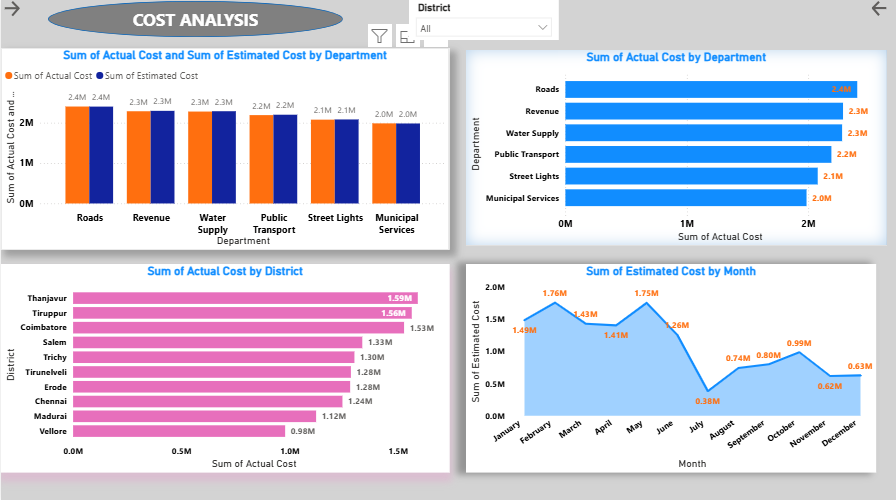

This screenshot's page, from the dashboard's own definition file:
{"tool":"powerbi","page":{"name":"Cost Analysis","canvas":[1280,720],"ordinal":4},"visuals":[{"type":"clusteredColumnChart","fields":{"Category":["Citizen Grievance Data.Department"],"Y":["Sum(Citizen Grievance Data.Actual Cost)","Sum(Citizen Grievance Data.Estimated Cost)"]},"box":[0,71.8,640.7,288.4],"z":0},{"type":"barChart","fields":{"Category":["Citizen Grievance Data.Department"],"Y":["Sum(Citizen Grievance Data.Actual Cost)"]},"box":[664.6,74.4,600.8,279.1],"z":1000},{"type":"clusteredBarChart","fields":{"Category":["Citizen Grievance Data.District"],"Y":["Sum(Citizen Grievance Data.Actual Cost)"]},"box":[0,380.1,640.7,297.7],"z":2000},{"type":"areaChart","fields":{"Category":["Citizen Grievance Data.Complaint_Date.Variation.Date Hierarchy.Month"],"Y":["Sum(Citizen Grievance Data.Estimated Cost)"]},"box":[664.6,380.1,586.2,297.7],"z":3000},{"type":"slicer","fields":{"Values":["Citizen Grievance Data.District"]},"box":[582.2,0,214,59.8],"z":4000},{"type":"shape","box":[67.4,4.3,421.4,51.6],"z":5000},{"type":"actionButton","box":[1239.9,0,40.1,30.1],"z":6000},{"type":"actionButton","box":[0,0,42.5,30.6],"z":7000}]}

Visuals, with their boxes in screenshot pixels (x1, y1, x2, y2), scaled from the page's 1280x720 canvas onto the 896x500 screenshot:
clusteredColumnChart - Citizen Grievance Data.Department x Sum(Citizen Grievance Data.Actual Cost): [0, 50, 448, 250]
barChart - Citizen Grievance Data.Department x Sum(Citizen Grievance Data.Actual Cost): [465, 52, 886, 245]
clusteredBarChart - Citizen Grievance Data.District x Sum(Citizen Grievance Data.Actual Cost): [0, 264, 448, 471]
areaChart - Citizen Grievance Data.Complaint_Date.Variation.Date Hierarchy.Month x Sum(Citizen Grievance Data.Estimated Cost): [465, 264, 876, 471]
slicer - Citizen Grievance Data.District: [408, 0, 557, 42]
shape: [47, 3, 342, 39]
actionButton: [868, 0, 895, 21]
actionButton: [0, 0, 30, 21]
